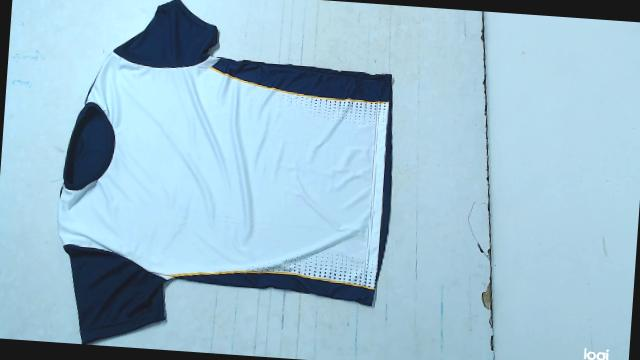new-garment: (57, 0, 392, 341)
